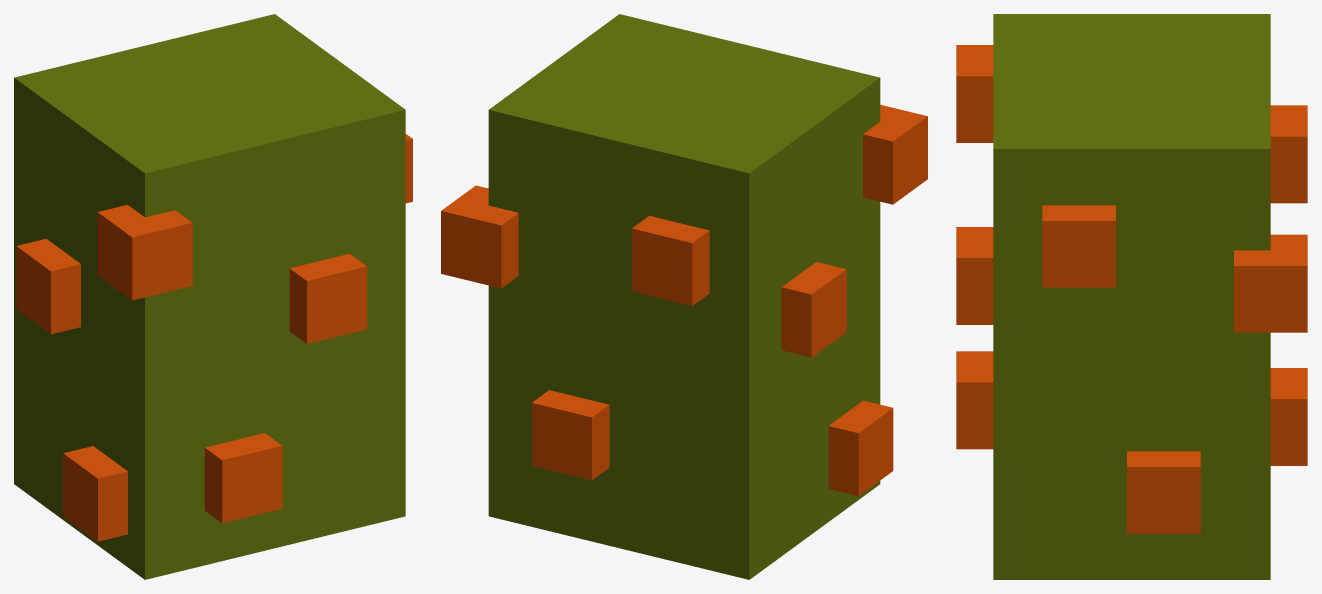
Rendered from FarmBushFruitRed.fbx.
3 renders of one model, left to right at view 1: azimuth 30°, elevation 25°; view 2: azimuth 150°, elevation 25°; view 3: azimuth 270°, elevation 25°, orthographic. The views are drawn at different scales.
Visible parts, largest first — view 1: FarmBushFruitRed; view 2: FarmBushFruitRed; view 3: FarmBushFruitRed.
Boxes of the visible parts, x1,y1,x2,y2 form: FarmBushFruitRed: (14, 14, 412, 579); FarmBushFruitRed: (441, 14, 927, 579); FarmBushFruitRed: (956, 14, 1307, 579).
Bounding box in the file's own units: 0.2949 × 0.3569 × 0.2636.
